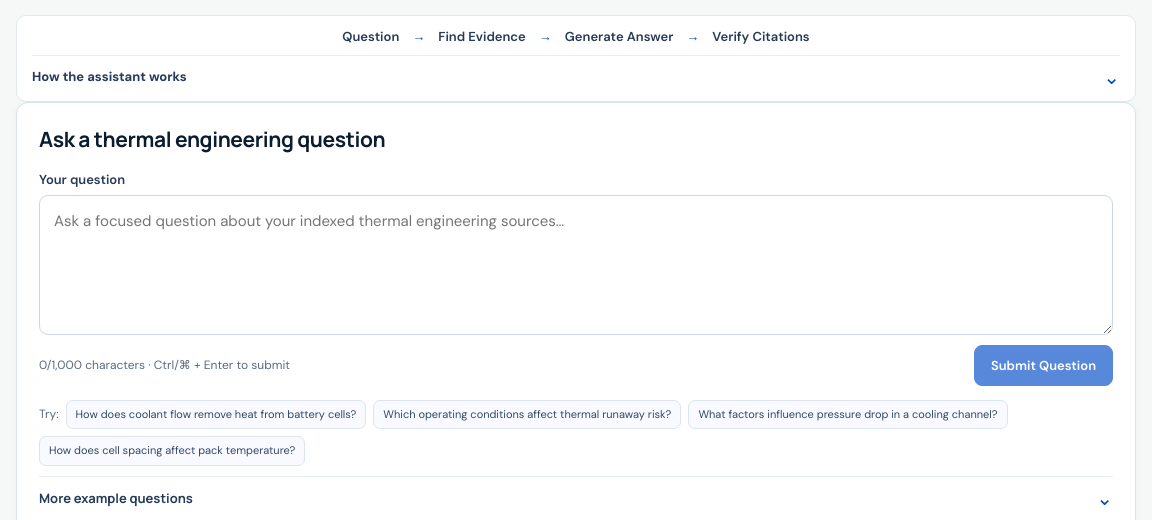
Test: ThermalKnowledgeAssistant (mocked API unit tests) › keeps real retrieved sources visible when answer generation fails
Check: the button "Submit Question" is shown, box [974,345,1113,386]
Replace the text in the text box labelled "Your question" with "How does coolant remove heat?" at point(576, 265), box [39,195,1113,335]
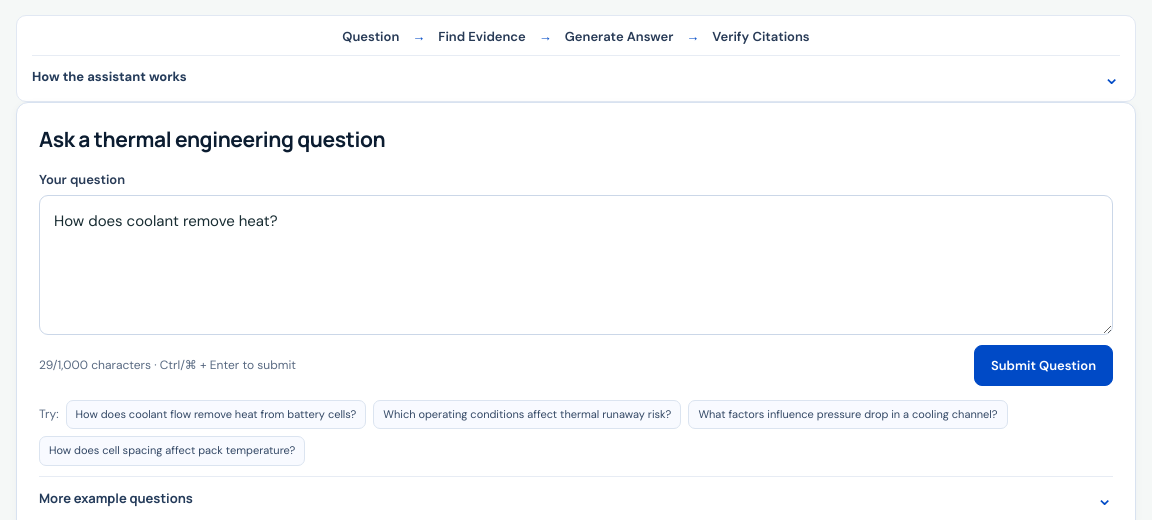
Click the button "Submit Question" at point(1044, 365), box [974,345,1113,386]
(page scrolled)
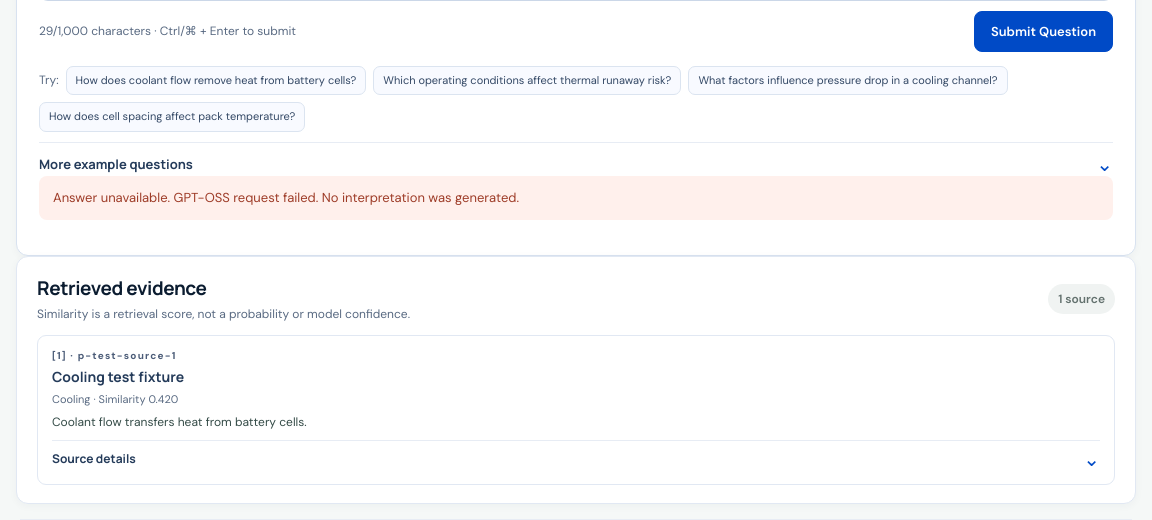
Check: the text "Answer unavailable. GPT-OSS request failed. No interpretation was generated." is shown, box [39,176,1113,220]
Check: the text "Coolant flow transfers heat from battery cells." is shown, box [52,414,307,430]
